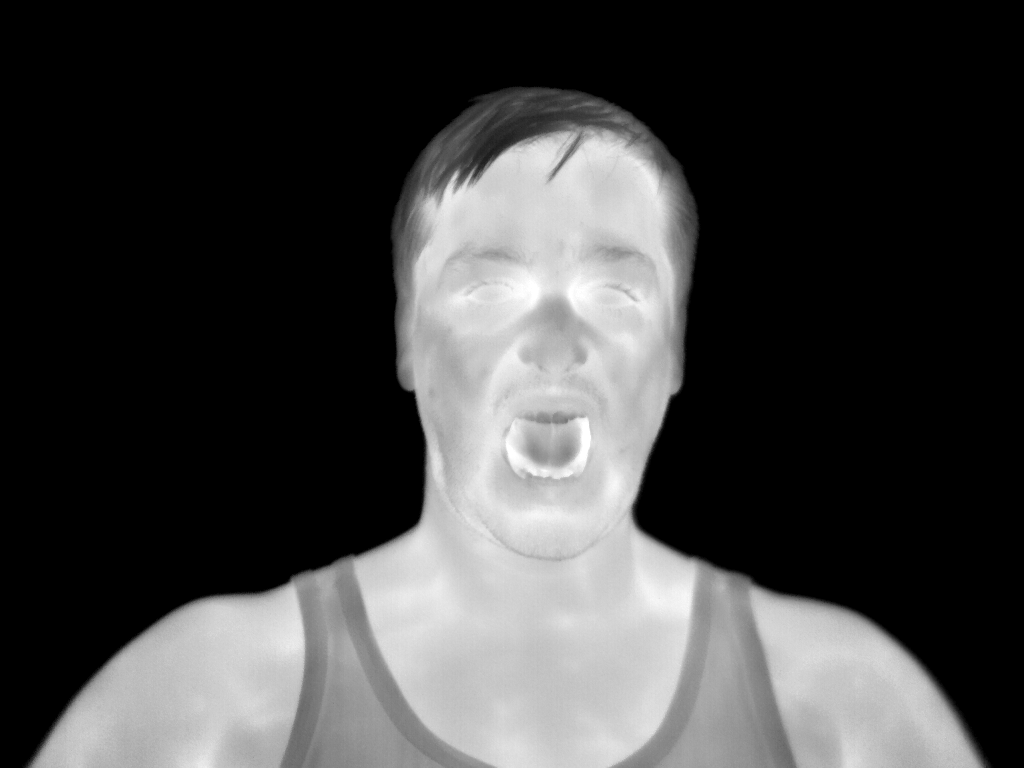face: (412, 139, 670, 561)
